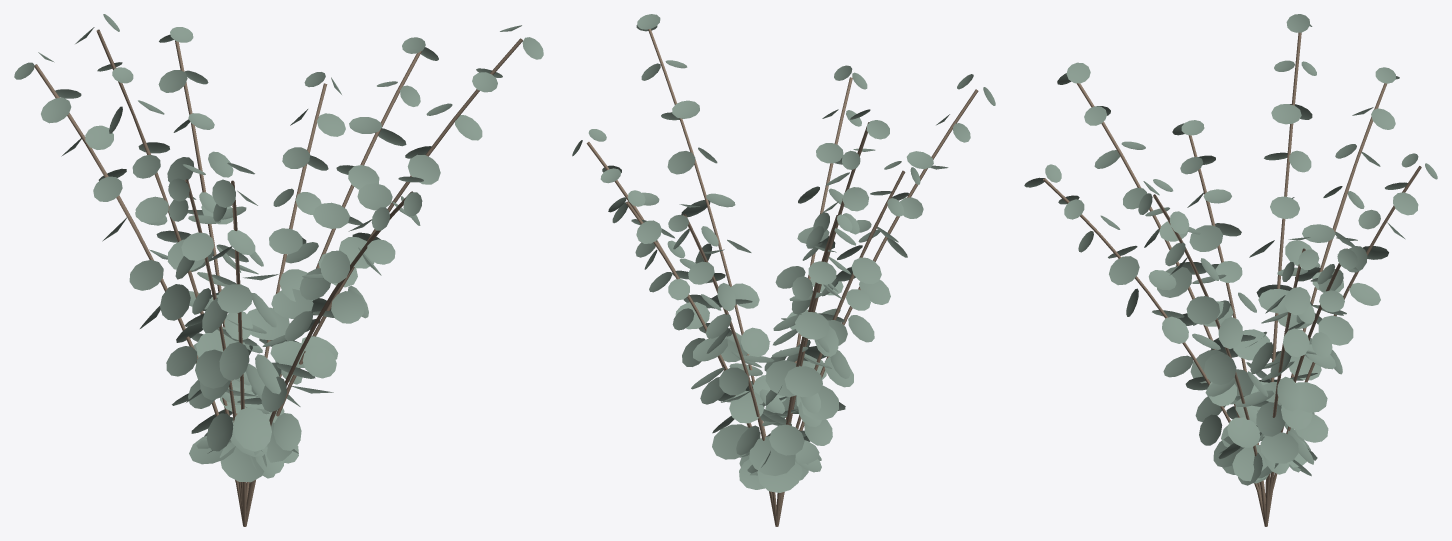
Rendered from silver-1.glb.
The picture shows the model from 3 angles, left to right: view 1: azimuth 30°, elevation 25°; view 2: azimuth 150°, elevation 25°; view 3: azimuth 270°, elevation 25°; orthographic projection. The views are drawn at different scales.
Visible parts, largest first — view 1: silver-leaves, silver-stems; view 2: silver-leaves, silver-stems; view 3: silver-leaves, silver-stems.
Boxes of the visible parts, x1=… form: silver-leaves: x1=14, y1=14, x2=543, y2=482; silver-stems: x1=34, y1=29, x2=522, y2=526; silver-leaves: x1=572, y1=14, x2=995, y2=492; silver-stems: x1=586, y1=29, x2=978, y2=526; silver-leaves: x1=1024, y1=14, x2=1437, y2=485; silver-stems: x1=1043, y1=32, x2=1421, y2=526.
Bounding box in the file's own units: 0.5202 × 0.6733 × 0.5481.
